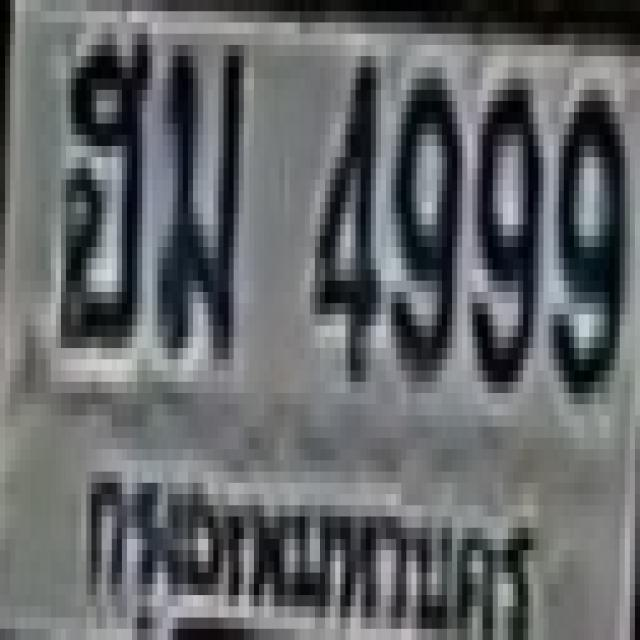4: (310, 45, 376, 370)
9: (548, 79, 620, 393), (468, 67, 538, 382), (388, 67, 454, 370)
A33: (155, 39, 243, 354)
A44: (56, 28, 147, 343)
